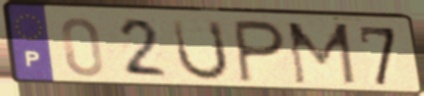0: (59, 15, 106, 79)
2: (117, 16, 170, 83)
7: (356, 24, 399, 87)
M: (284, 20, 359, 87)
P: (231, 18, 289, 86)
U: (170, 17, 232, 83)
